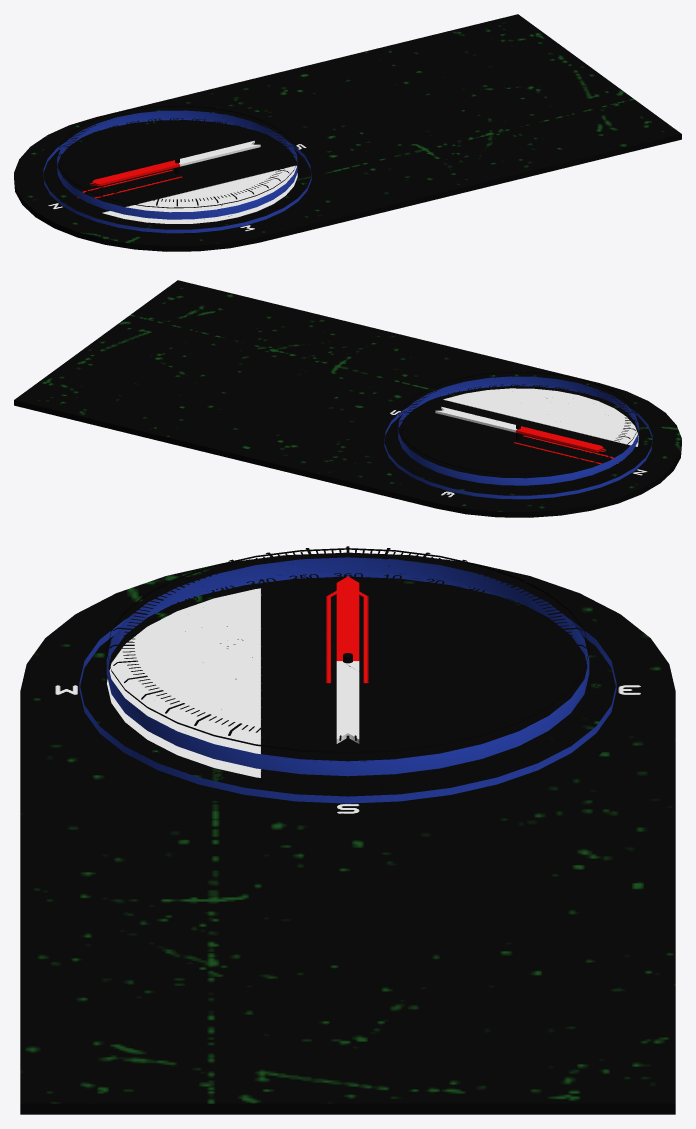
File: SM_Compass.fbx
The picture shows the model from 3 angles, top to bottom: view 1: azimuth 30°, elevation 25°; view 2: azimuth 150°, elevation 25°; view 3: azimuth 270°, elevation 25°; orthographic projection. The views are drawn at different scales.
Parts seen in each view (by area): view 1: CompassBaseplate, CompassHousing, polySurface2; view 2: CompassBaseplate, CompassHousing, polySurface2; view 3: CompassBaseplate, CompassHousing, polySurface2.
Boxes of the visible parts, x1=… form: CompassBaseplate: x1=14, y1=14, x2=681, y2=251; CompassHousing: x1=30, y1=105, x2=324, y2=238; polySurface2: x1=90, y1=140, x2=260, y2=186; CompassBaseplate: x1=14, y1=280, x2=681, y2=517; CompassHousing: x1=371, y1=371, x2=665, y2=504; polySurface2: x1=435, y1=406, x2=605, y2=452; CompassBaseplate: x1=20, y1=552, x2=675, y2=1114; CompassHousing: x1=52, y1=546, x2=643, y2=814; polySurface2: x1=336, y1=576, x2=359, y2=743.
Size of the model in its own units: 5.56 by 0.267 by 2.8.
Materials: 4 (4 with a texture image).
